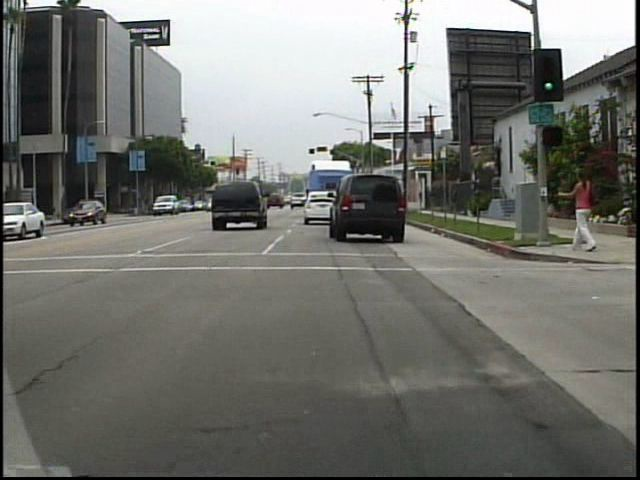person: (555, 165, 598, 253)
